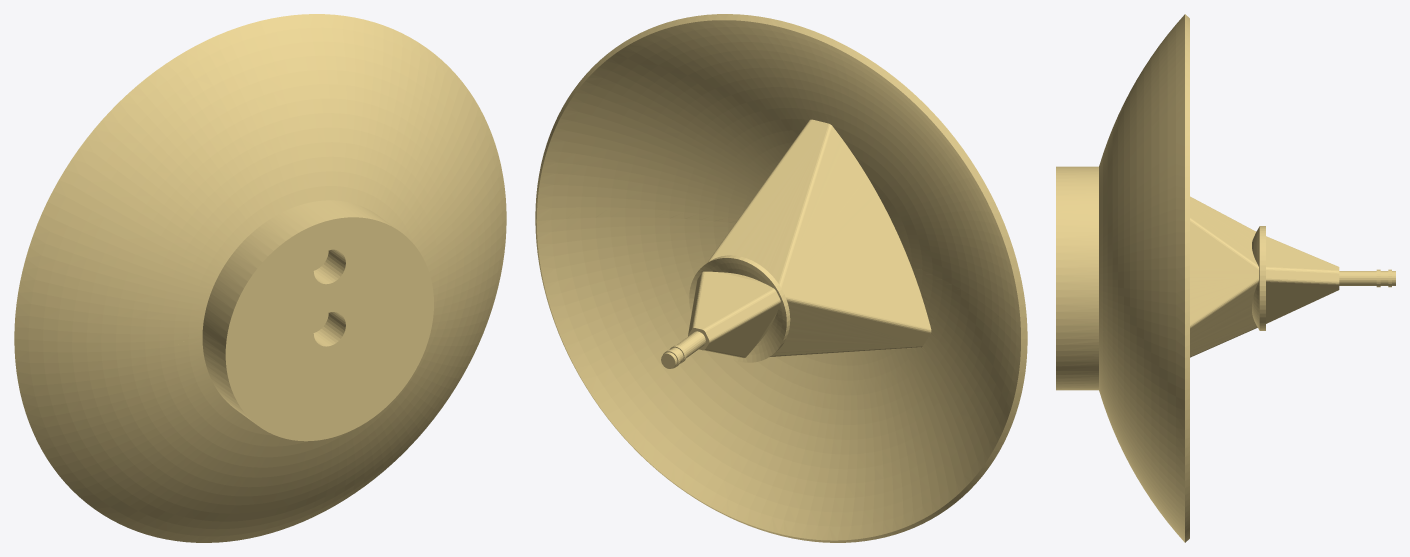
File: new-horizons.glb
3 renders of one model, left to right at view 1: azimuth 30°, elevation 25°; view 2: azimuth 150°, elevation 25°; view 3: azimuth 270°, elevation 25°, orthographic. The views are drawn at different scales.
Parts seen in each view (by area): view 1: 7399_05_rp_antenna.stl; view 2: 7399_05_rp_antenna.stl; view 3: 7399_05_rp_antenna.stl.
Boxes of the visible parts, left/top/right/bottom form: 7399_05_rp_antenna.stl: left=14, top=14, right=506, bottom=542; 7399_05_rp_antenna.stl: left=535, top=14, right=1027, bottom=542; 7399_05_rp_antenna.stl: left=1056, top=14, right=1395, bottom=542.
Size of the model in its own units: 4.13 by 4.13 by 2.66.
